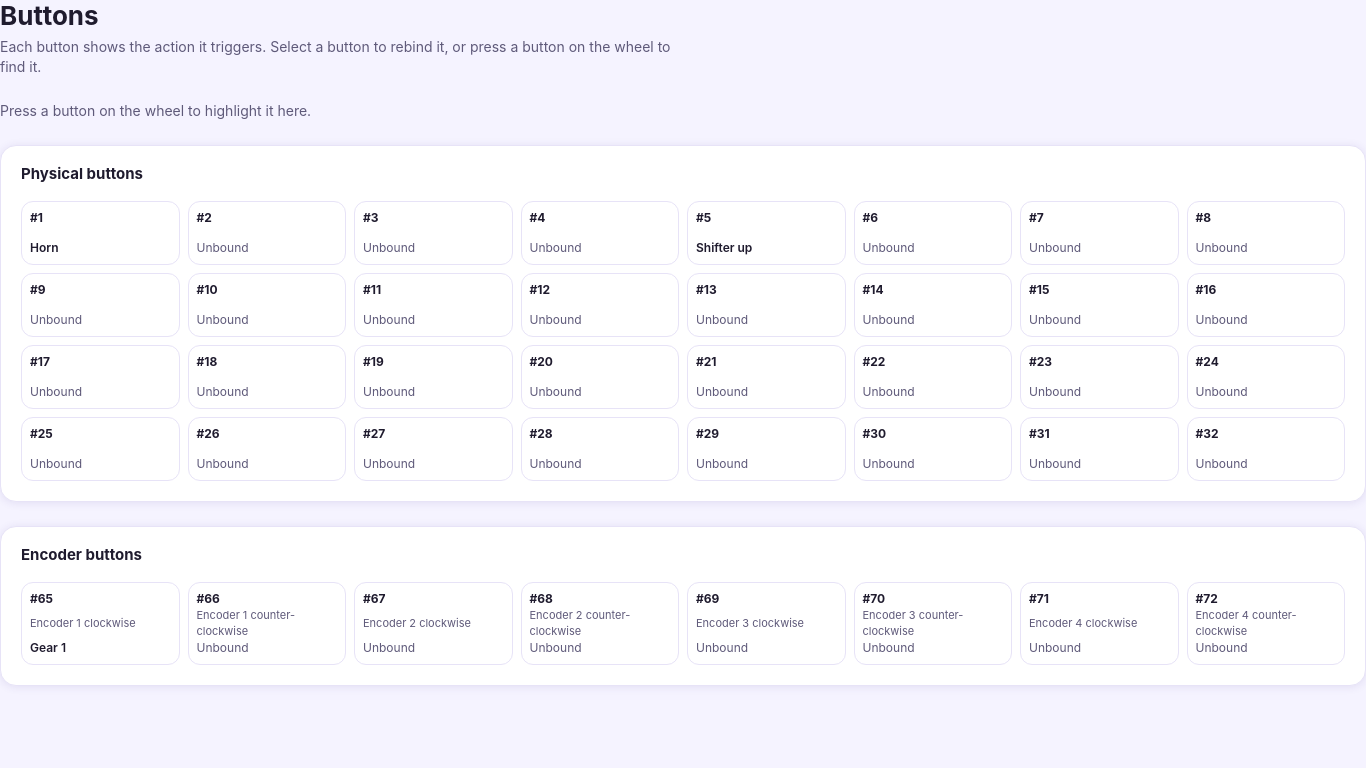
Scenario: Buttons screen › rebind flow saves through stage -> commit -> confirm
Expected: the text "Horn" is shown, top-left (30, 240), bottom-right (58, 256)
Step 1. Click the button with aria-label "Rebind button 1" → (100, 232), box top-left (21, 200), bottom-right (180, 264)
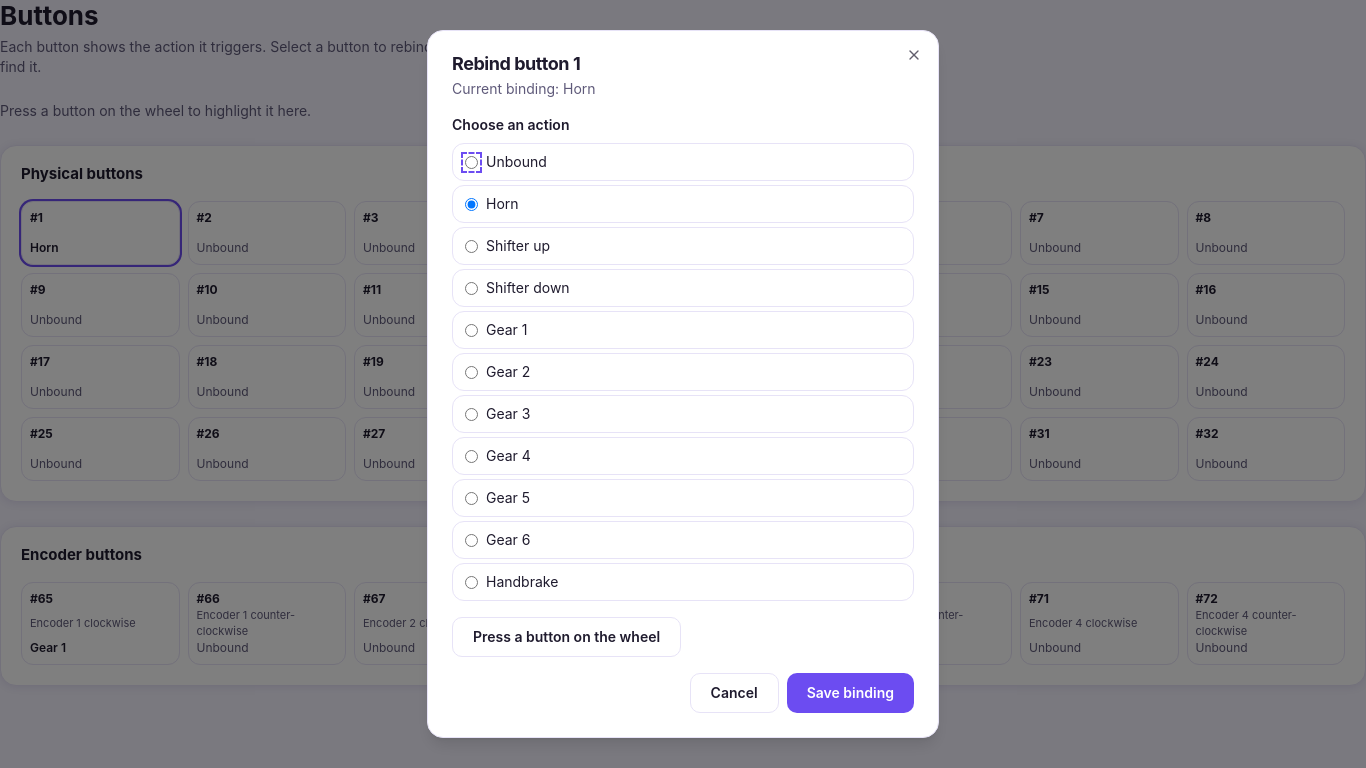
Step 2. Click the radio button labelled "Handbrake" → (472, 582), box top-left (465, 576), bottom-right (478, 588)
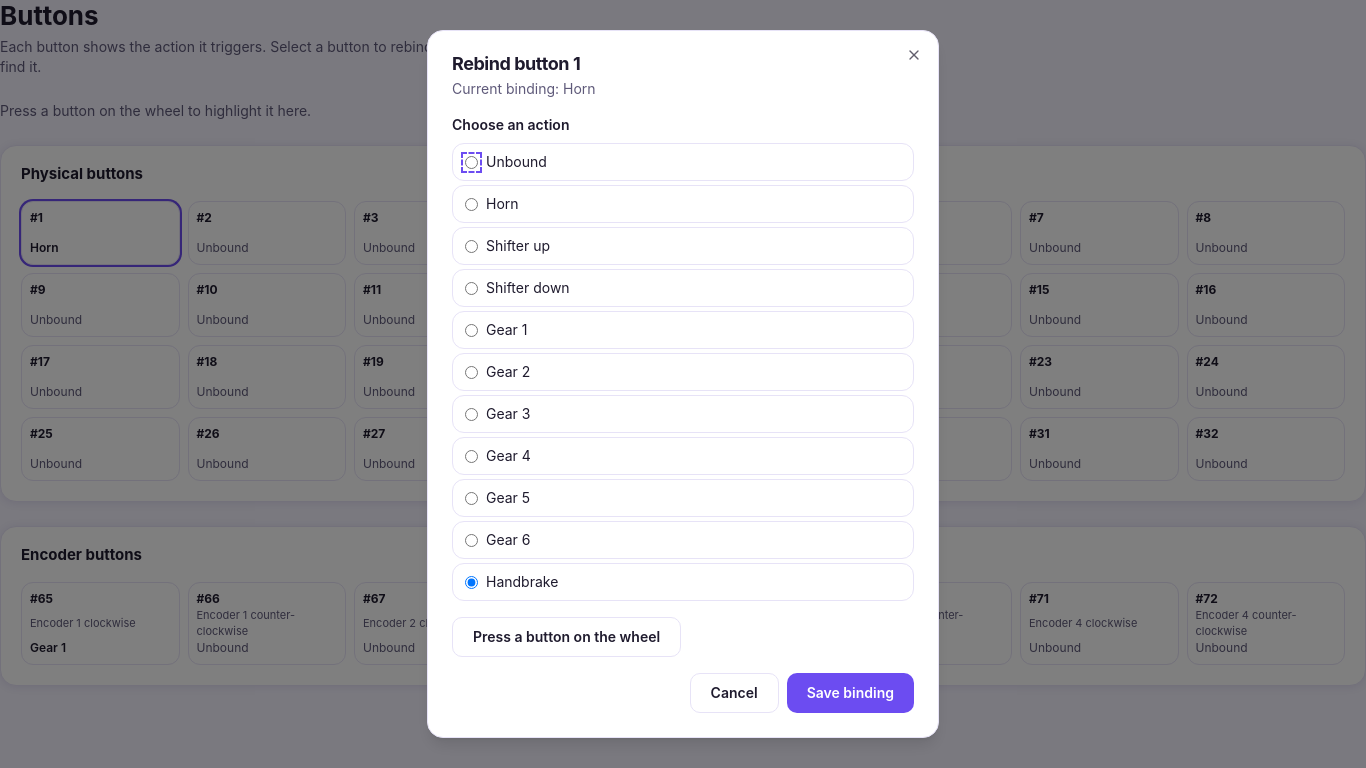
Step 3. Click the button "Save binding" → (850, 693), box top-left (787, 673), bottom-right (914, 713)
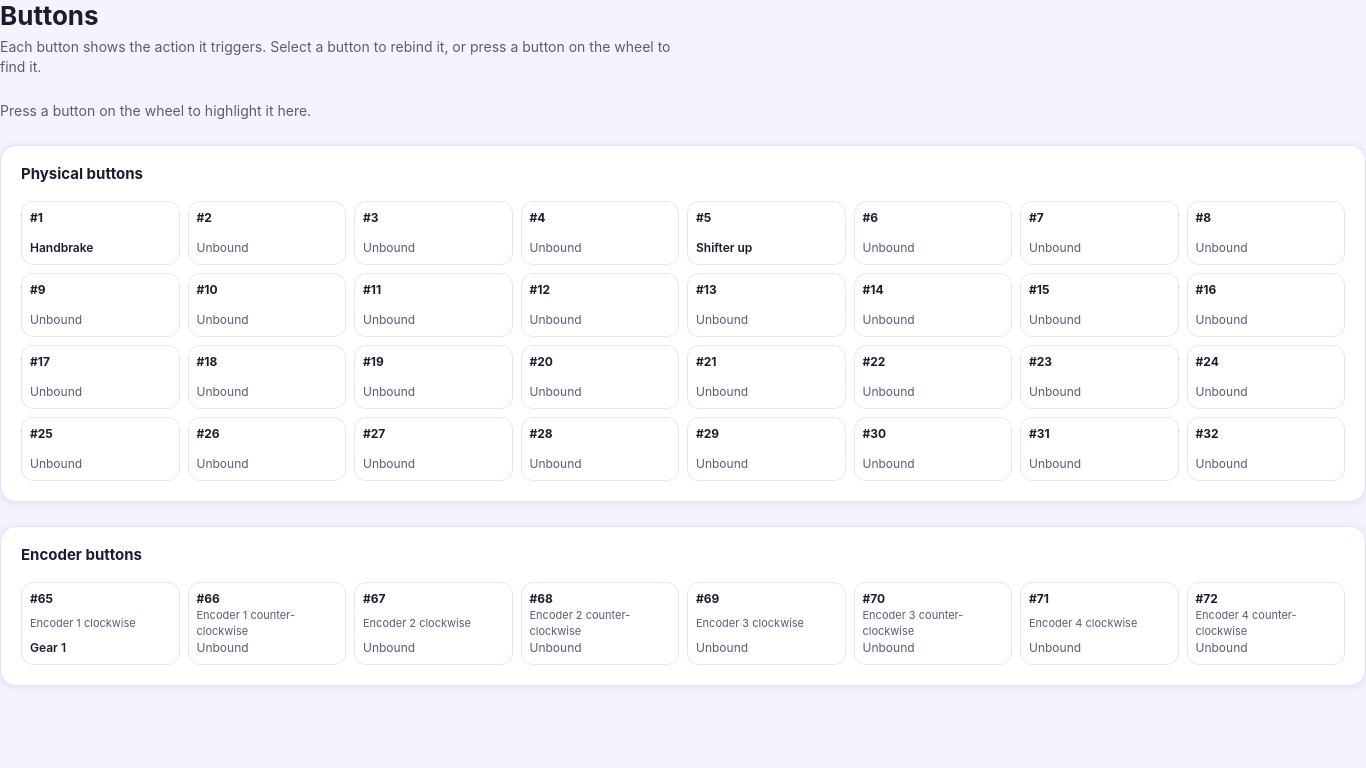
Now the text "Handbrake" is shown, box top-left (30, 240), bottom-right (93, 256)
